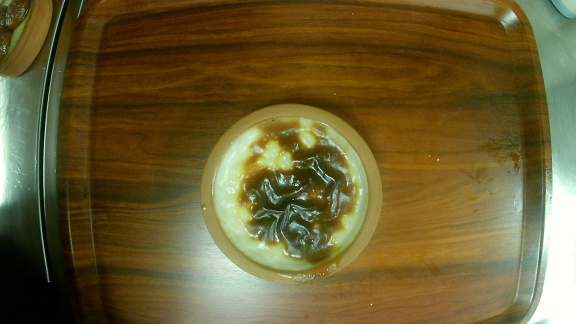sutlac: (199, 103, 382, 284)
